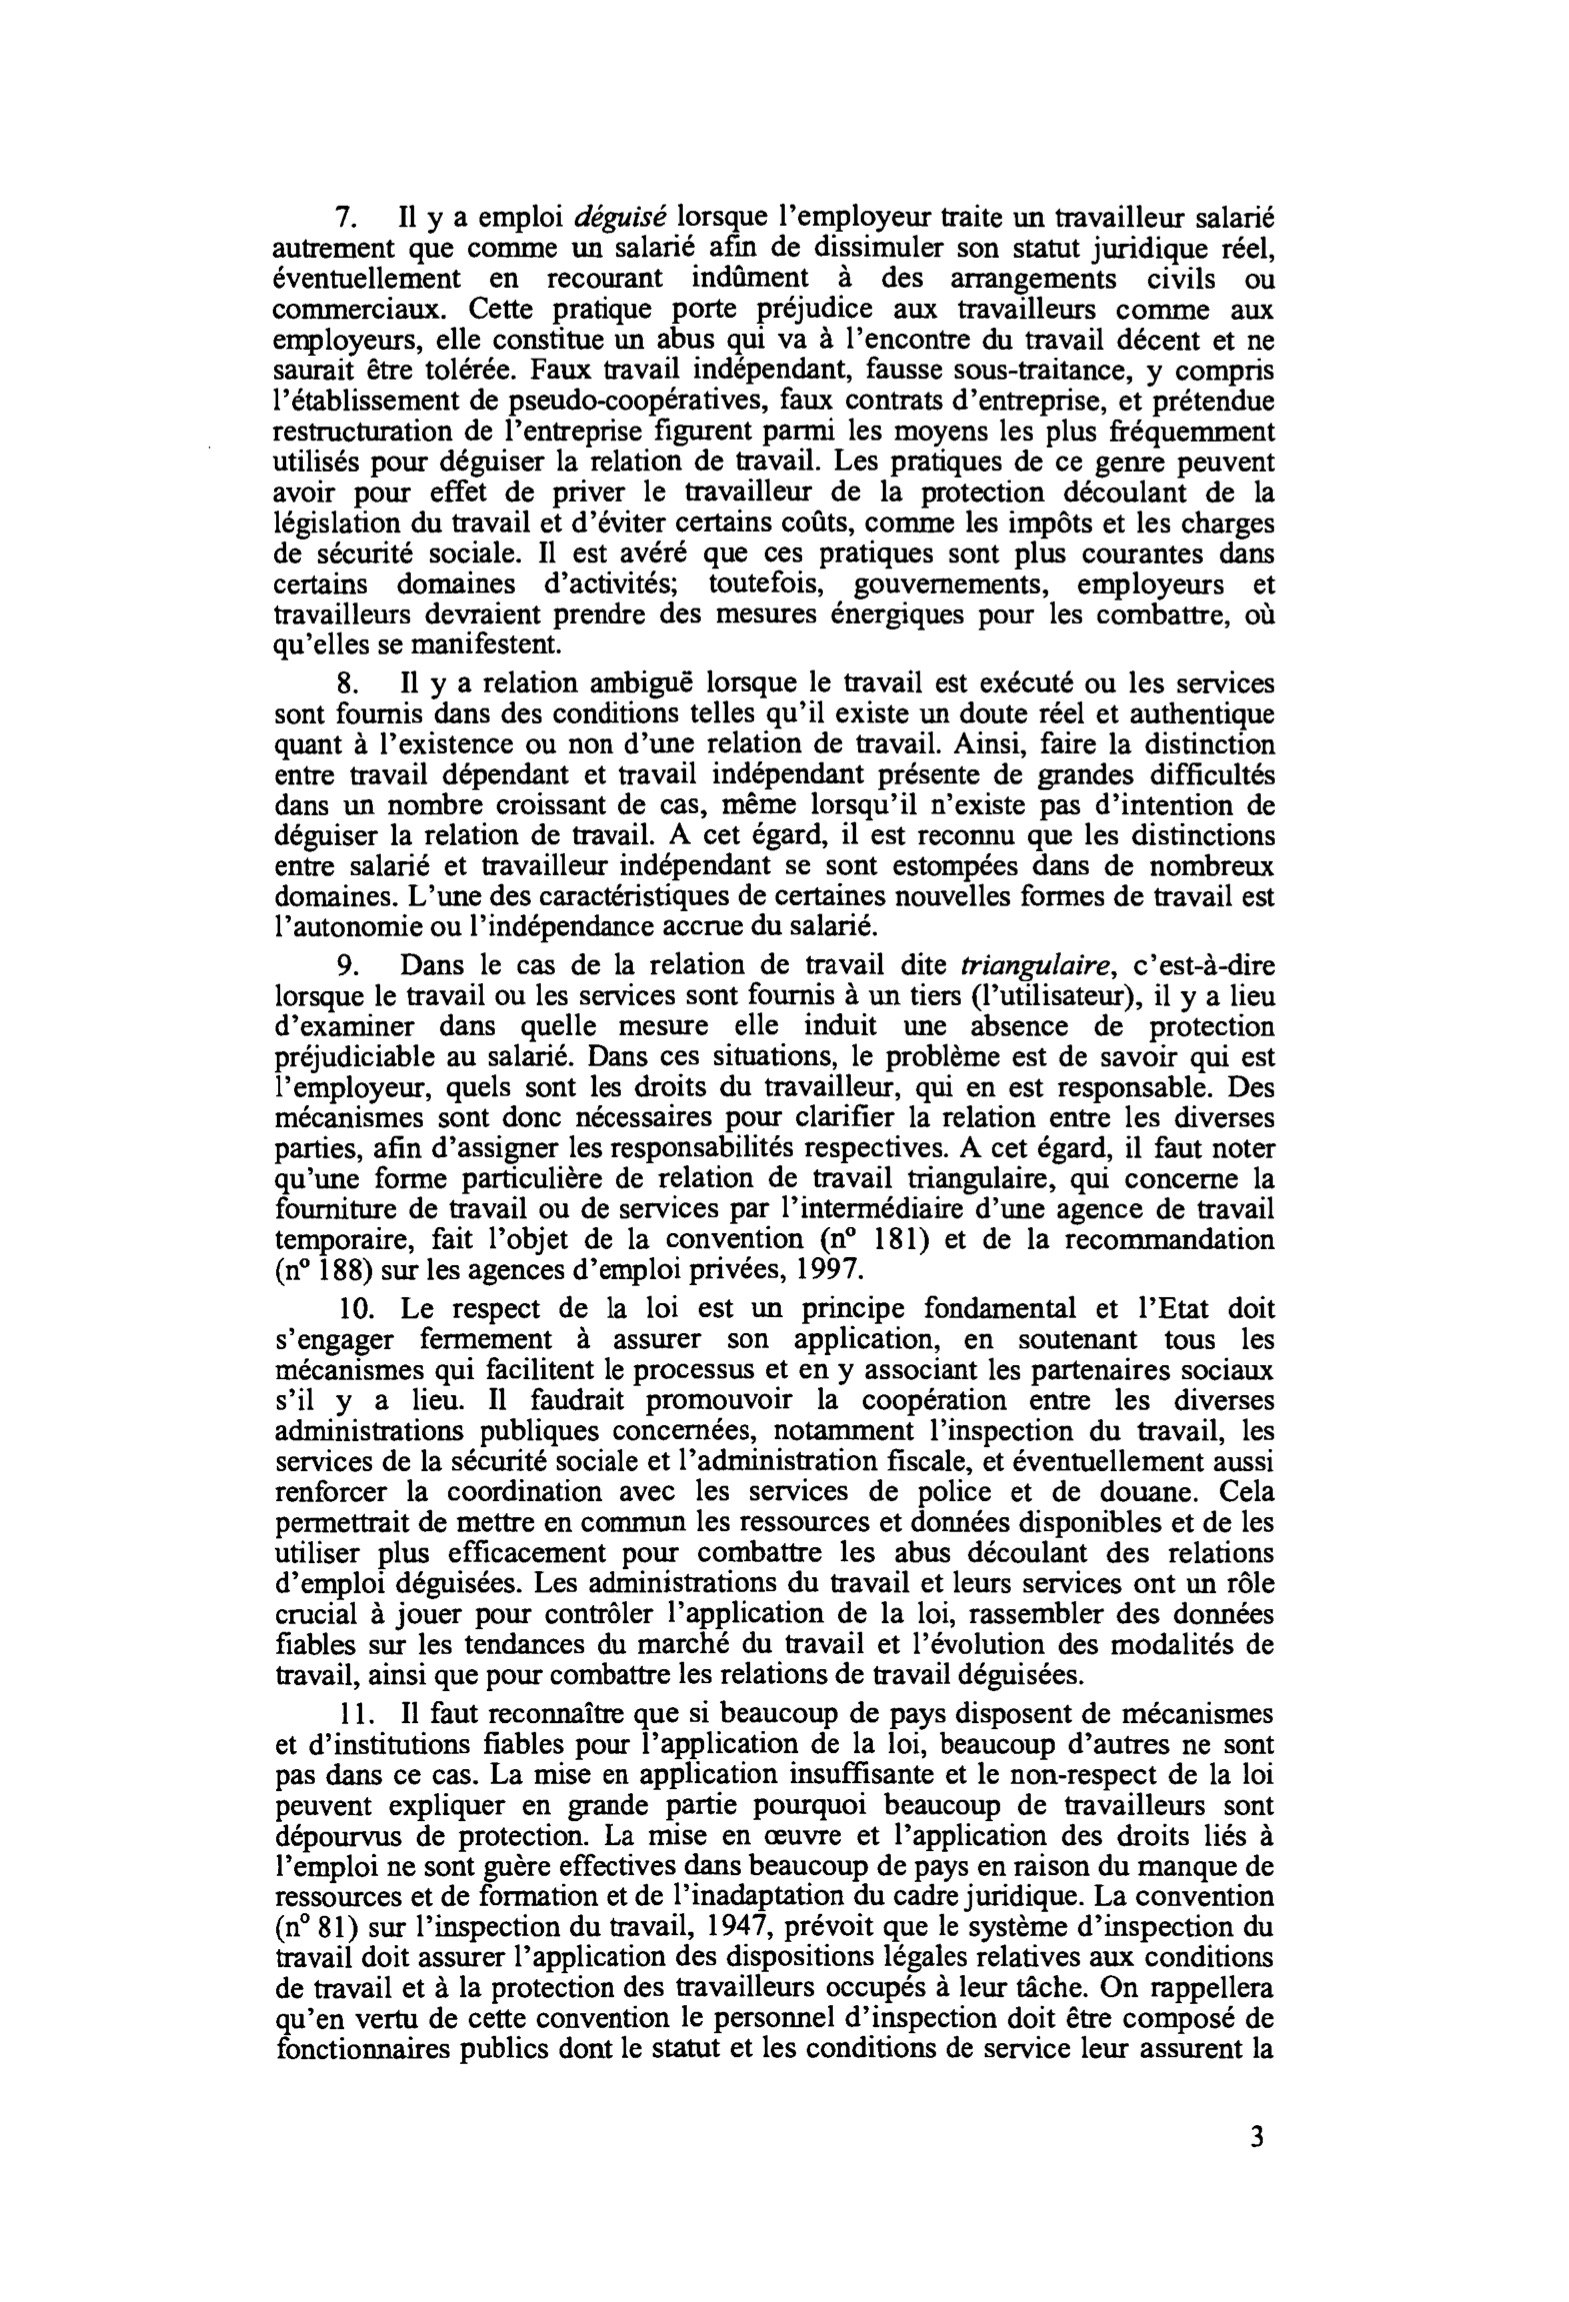MainZone-ListItem: (257, 191, 1284, 661), (262, 1287, 1286, 1695), (264, 1693, 1284, 2075), (262, 946, 1289, 1291), (261, 661, 1287, 941)
TitlePageZone: (1240, 2115, 1272, 2162)
